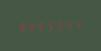eight: (26, 20, 34, 31), (17, 21, 25, 31)
five: (44, 20, 52, 30)
four: (62, 19, 70, 30), (71, 19, 79, 29)
six: (35, 20, 43, 31)
zero: (53, 19, 61, 30)
